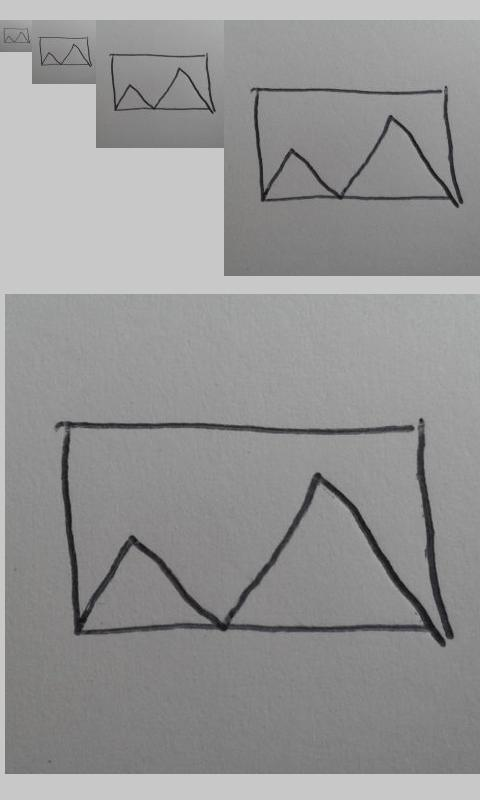image_view: (57, 418, 446, 639), (252, 85, 458, 207), (110, 53, 213, 111), (38, 36, 91, 67), (3, 27, 30, 44)
